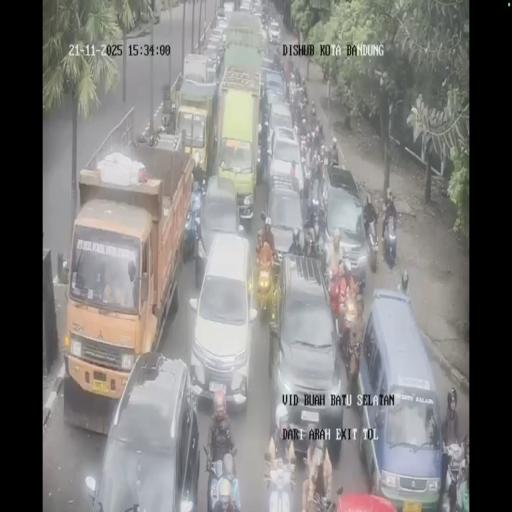3: (172, 59, 218, 183), (221, 7, 265, 79)
car: (356, 290, 442, 505), (88, 352, 200, 508), (268, 255, 343, 456), (321, 171, 371, 287), (194, 173, 245, 284), (264, 181, 306, 270), (267, 129, 302, 193), (262, 67, 286, 107), (202, 41, 224, 76), (259, 26, 269, 59), (260, 54, 274, 75), (268, 20, 280, 42), (215, 5, 228, 22), (239, 0, 253, 13), (253, 9, 263, 22)
truck: (205, 448, 241, 510), (264, 454, 296, 512), (182, 190, 198, 264), (306, 172, 326, 230), (364, 214, 380, 272), (382, 214, 398, 270), (291, 80, 308, 119)
